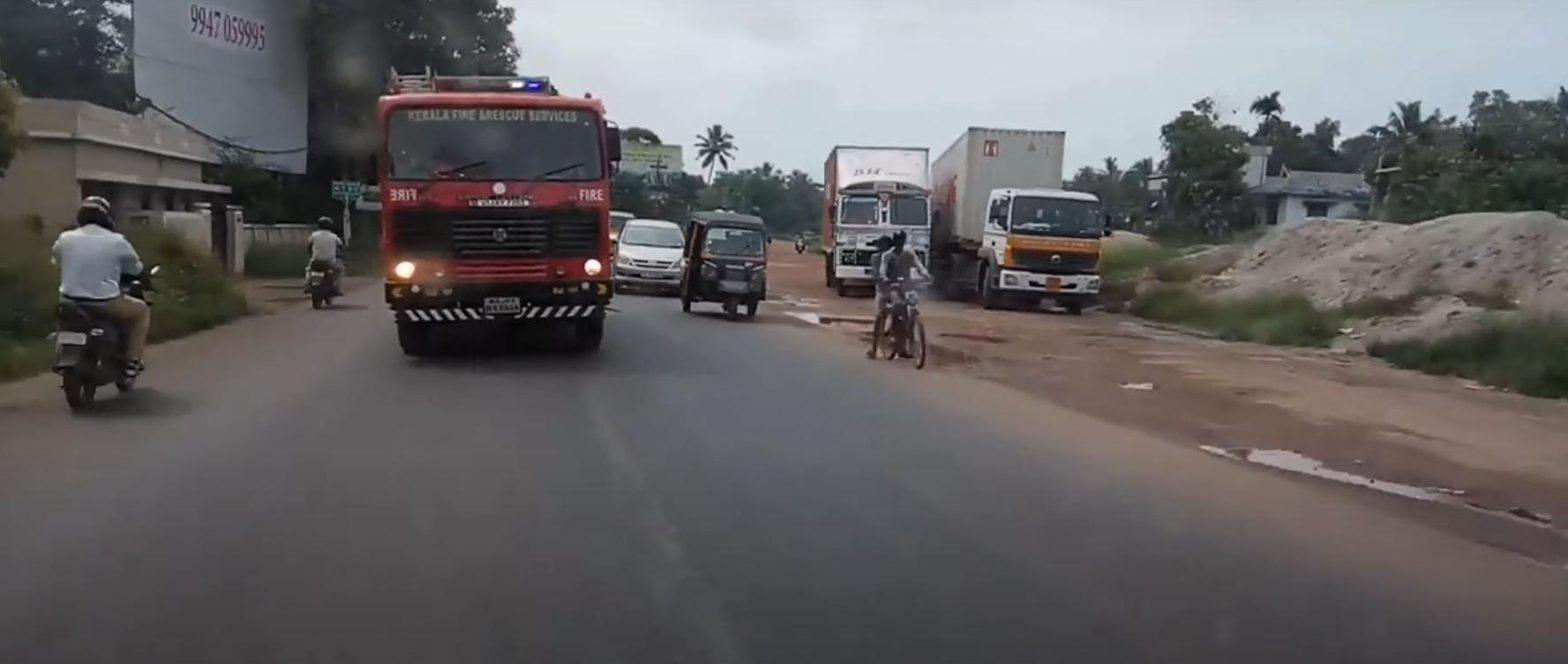Fire-engine: (374, 82, 618, 365)
